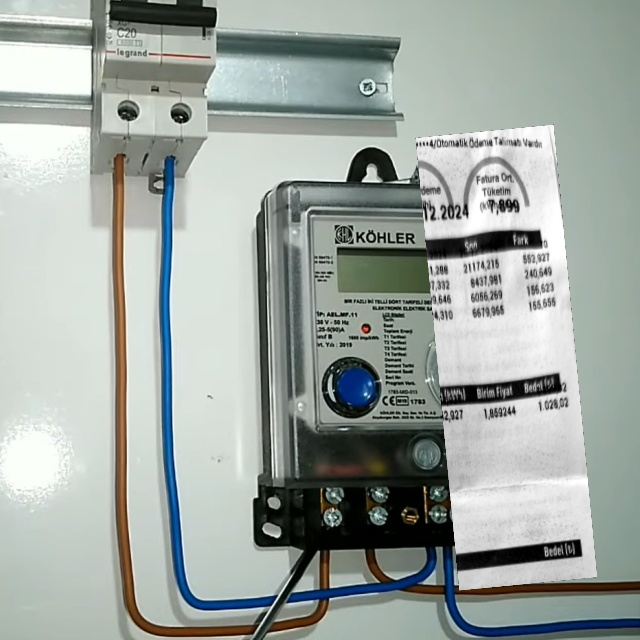electricity-bill: (415, 124, 597, 591)
